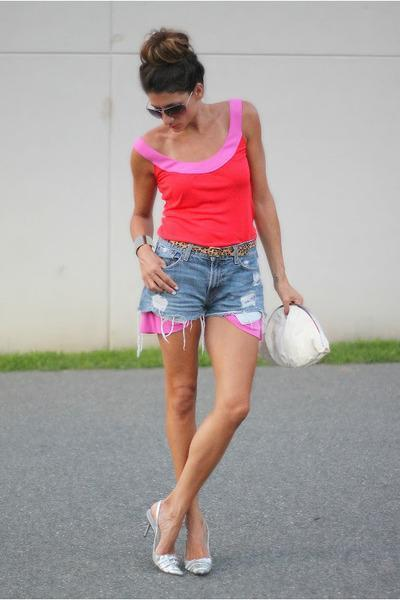bag: (277, 306, 329, 365)
shirt: (132, 108, 255, 250)
shoe: (153, 548, 211, 573)
shorts: (138, 252, 266, 343)
sunglass: (162, 102, 185, 118)
